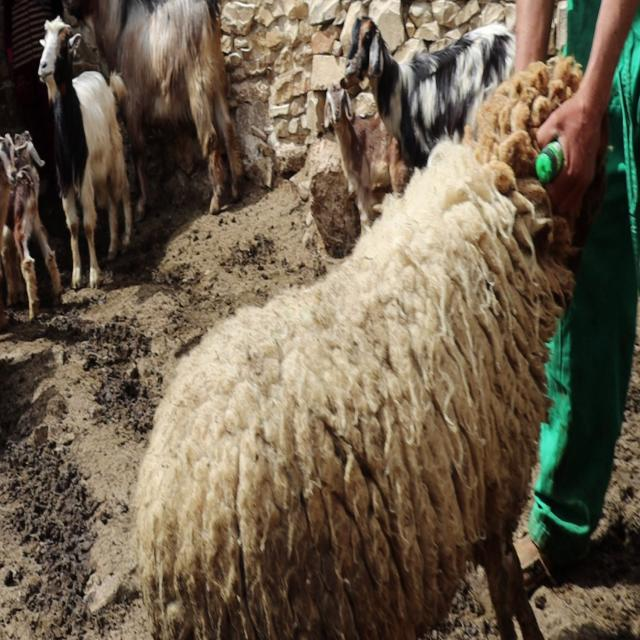Score_2: (133, 56, 580, 639)
